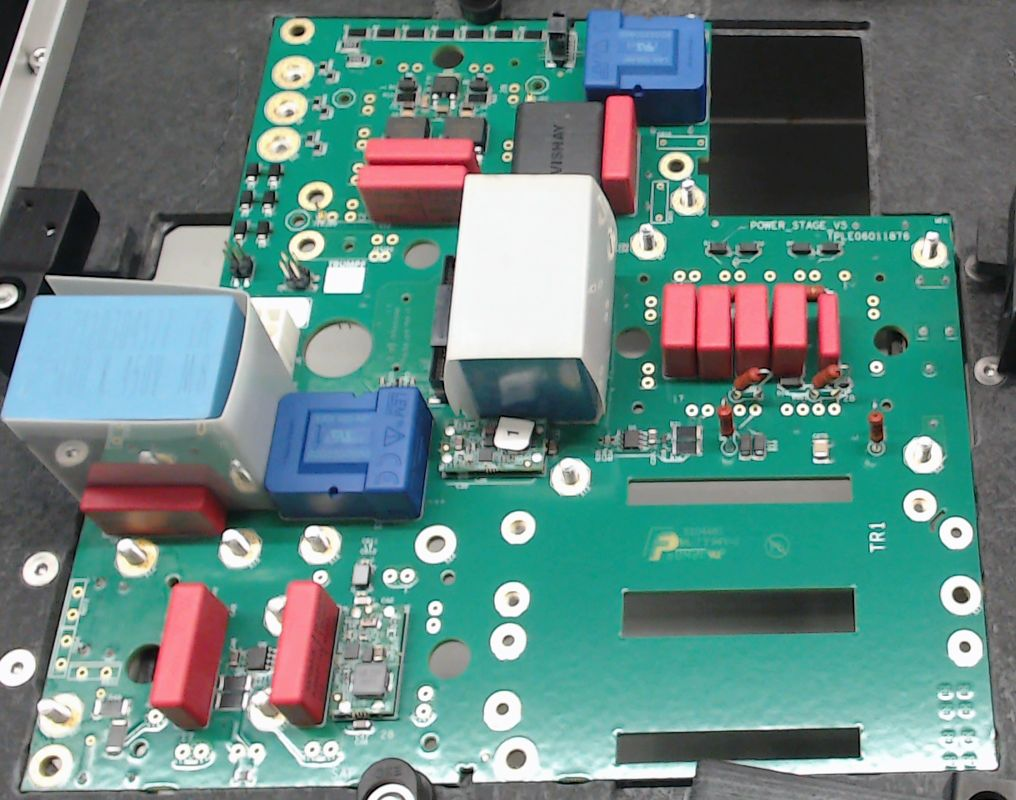comp1: (269, 385, 432, 521), (585, 11, 705, 124)
comp2: (147, 583, 232, 729), (267, 580, 338, 727), (76, 486, 221, 537), (359, 162, 468, 227), (603, 94, 637, 216), (771, 280, 810, 380), (733, 280, 769, 381), (661, 280, 697, 380), (698, 280, 733, 380), (359, 137, 478, 163), (815, 290, 843, 364)
comp3: (512, 99, 606, 180)
comp4: (2, 276, 298, 512), (444, 175, 618, 423)
